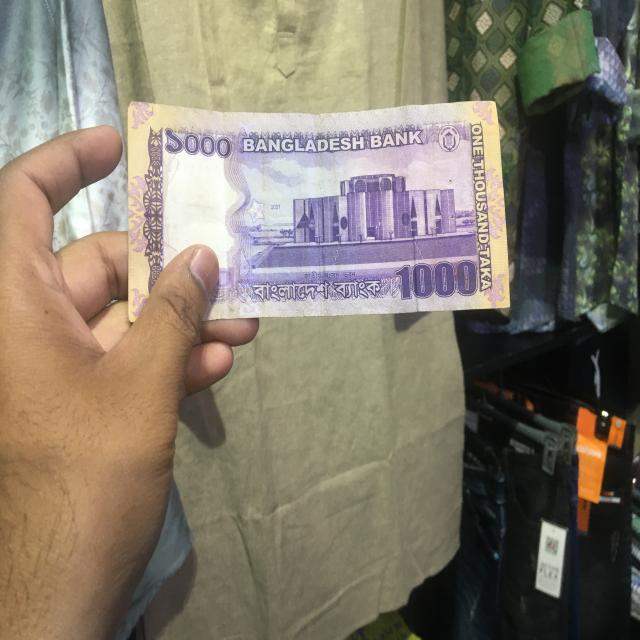Taka: (124, 94, 514, 311)
